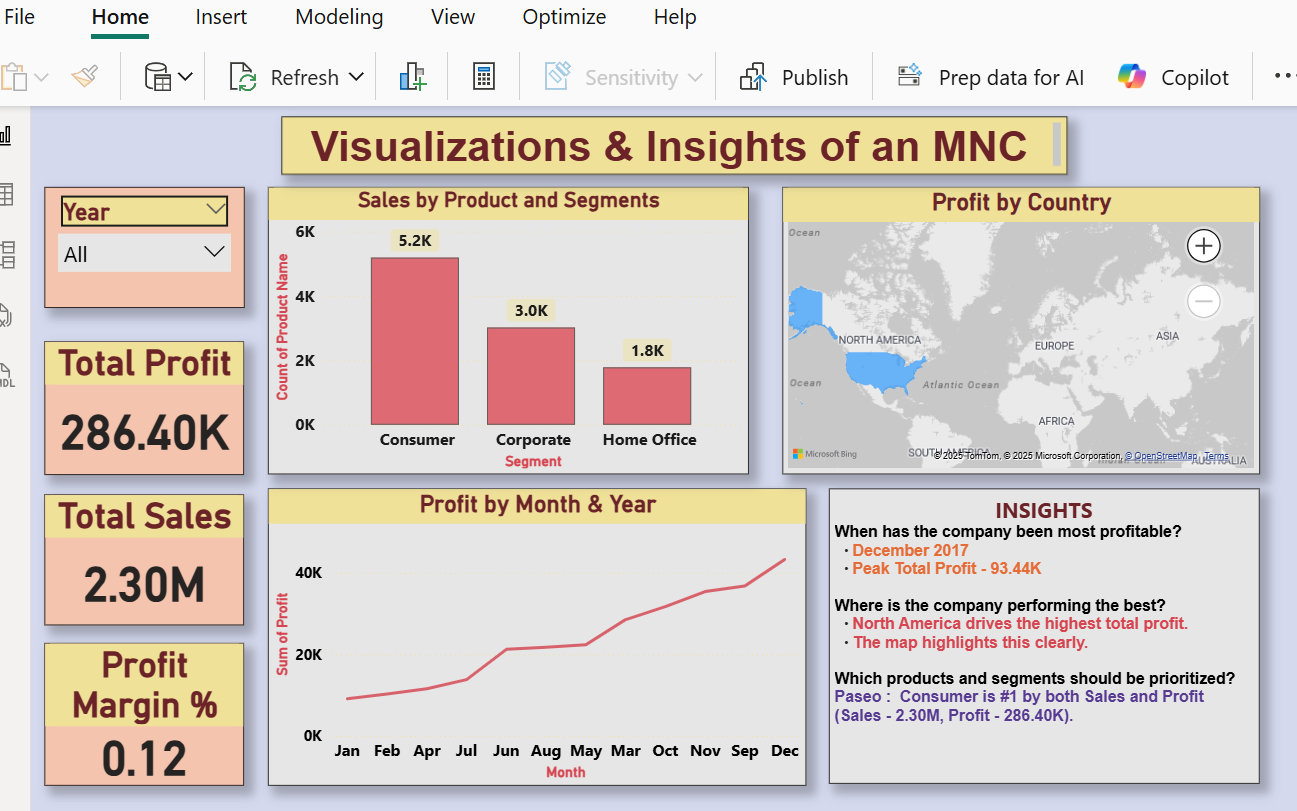

What the dashboard file says about the page in this screenshot:
{"tool":"powerbi","page":{"name":"Page 1","canvas":[1280,720],"ordinal":0},"visuals":[{"type":"slicer","fields":{"Values":["Calendar.Year"]},"box":[13.3,81.7,201.7,121.7],"z":0},{"type":"lineChart","title":"Profit by Month & Year","fields":{"Y":["Sum(Orders.Profit)"],"Category":["Calendar.Month"]},"box":[239.2,386.1,543.6,299.8],"z":1000},{"type":"card","title":"Total Profit","fields":{"Values":["Orders.Total Profit"]},"box":[13.6,237.7,201.4,134.8],"z":2000},{"type":"filledMap","title":"Profit by Country","fields":{"Series":["Orders.Profit"],"Category":["Orders.Country"]},"box":[758.3,81.7,481.7,290],"z":3000},{"type":"clusteredColumnChart","title":"Sales by Product and Segments","fields":{"Category":["Orders.Segment"],"Y":["CountNonNull(Orders.Product Name)"]},"box":[240,81.7,485,290],"z":4000},{"type":"card","title":"Total Sales","fields":{"Values":["Orders.Total Sales"]},"box":[13.6,392.2,201.4,131.7],"z":5000},{"type":"card","title":"Profit Margin %","fields":{"Values":["Orders.Profit Margin %"]},"box":[13.6,542.1,201.4,143.8],"z":6000},{"type":"textbox","box":[253.1,10,793.1,58.9],"z":7000},{"type":"textbox","box":[805.6,385.9,434.8,298.2],"z":8000}]}

Visuals, with their boxes in screenshot pixels (x1, y1, x2, y2):
slicer - Calendar.Year: select_region(37, 180, 238, 301)
"Profit by Month & Year" lineChart: select_region(263, 484, 806, 783)
"Total Profit" card: select_region(37, 335, 238, 470)
"Profit by Country" filledMap: select_region(781, 180, 1263, 469)
"Sales by Product and Segments" clusteredColumnChart: select_region(263, 180, 748, 469)
"Total Sales" card: select_region(37, 490, 238, 621)
"Profit Margin %" card: select_region(37, 640, 238, 783)
textbox: select_region(277, 108, 1069, 167)
textbox: select_region(829, 484, 1263, 782)
